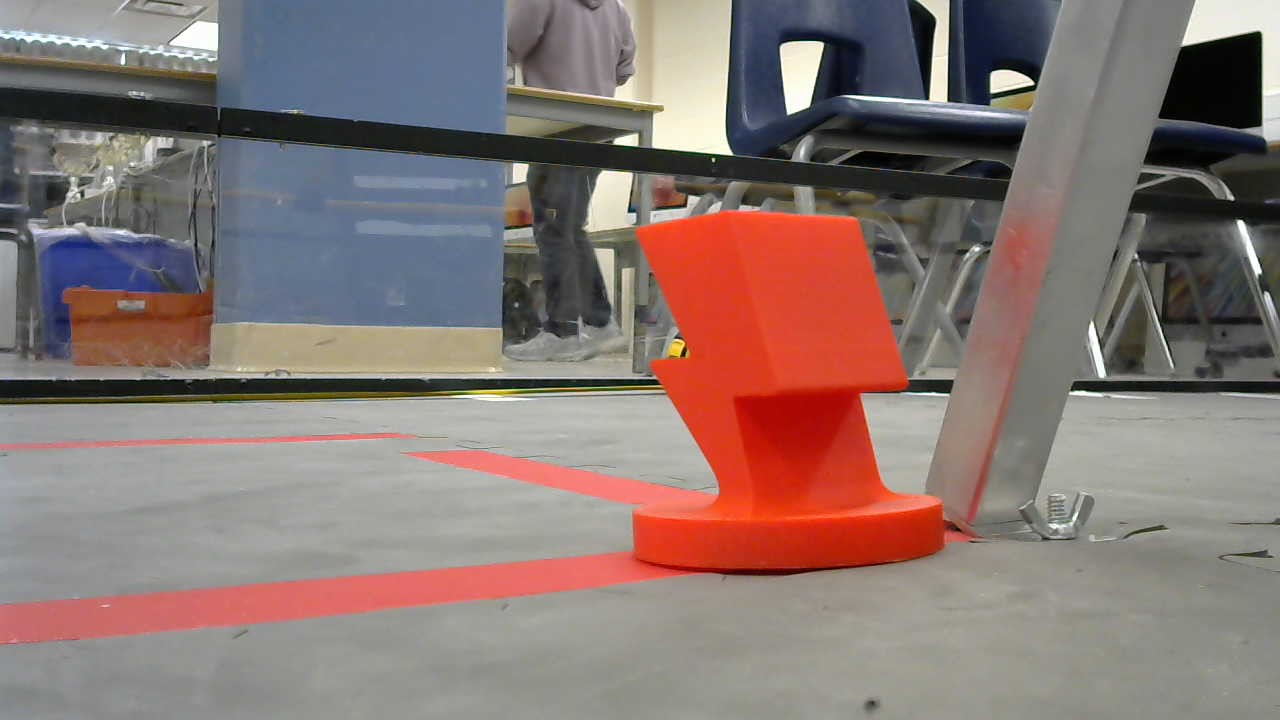redobject: (621, 212, 952, 575)
